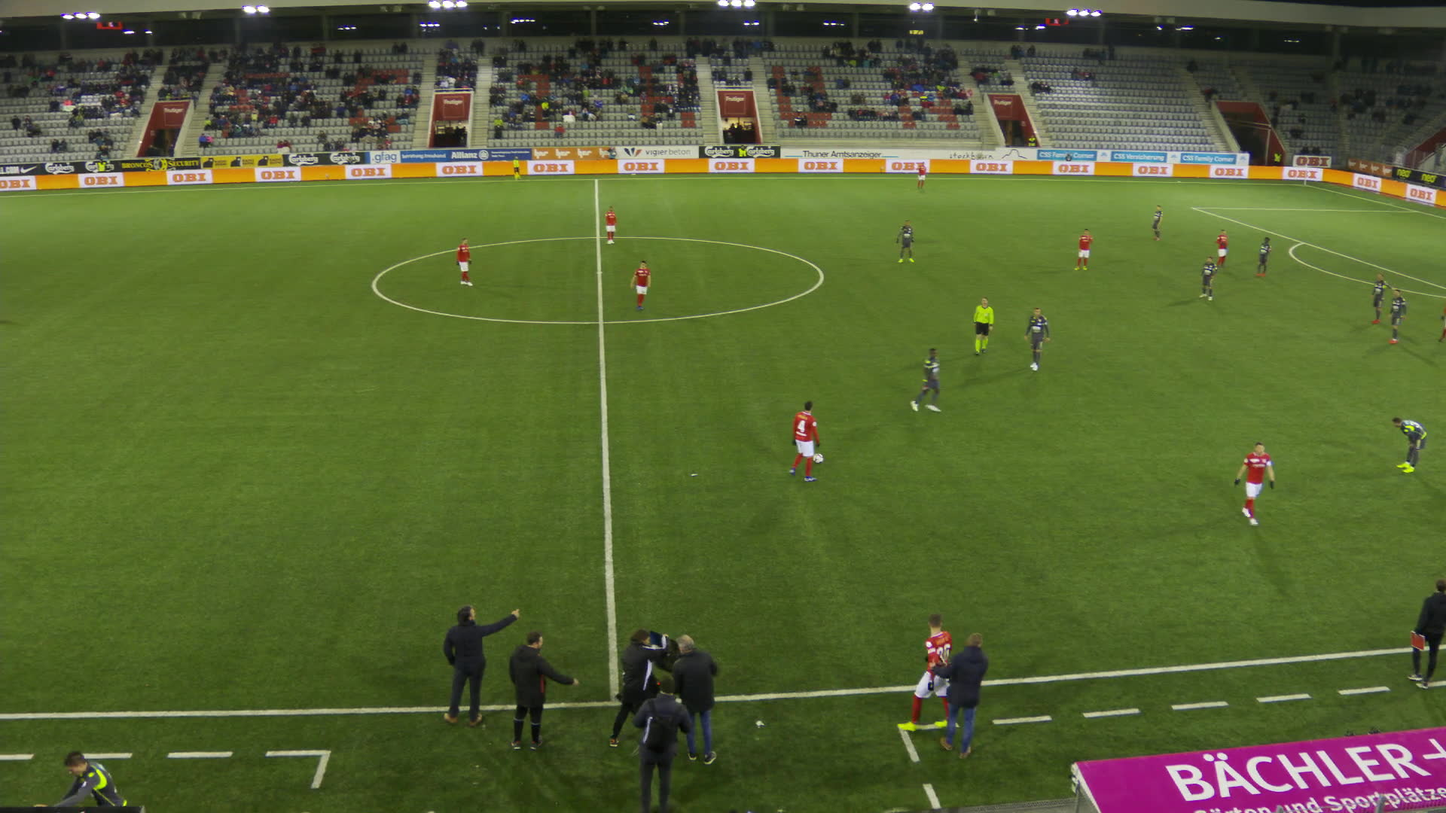ball: (813, 451, 825, 463)
player: (905, 612, 959, 732), (38, 751, 132, 808), (1237, 440, 1274, 525), (788, 400, 821, 481), (904, 349, 944, 414), (1391, 416, 1428, 473), (1025, 306, 1051, 371), (1369, 273, 1393, 323), (1387, 288, 1408, 343), (630, 260, 652, 311), (1425, 288, 1445, 344), (1199, 255, 1218, 300), (1074, 228, 1094, 270), (897, 220, 916, 263), (457, 237, 474, 285), (1255, 236, 1273, 278), (1215, 230, 1229, 269), (606, 206, 618, 245), (1152, 204, 1164, 241), (918, 161, 928, 189)
referee: (972, 297, 995, 357), (514, 155, 523, 181)
